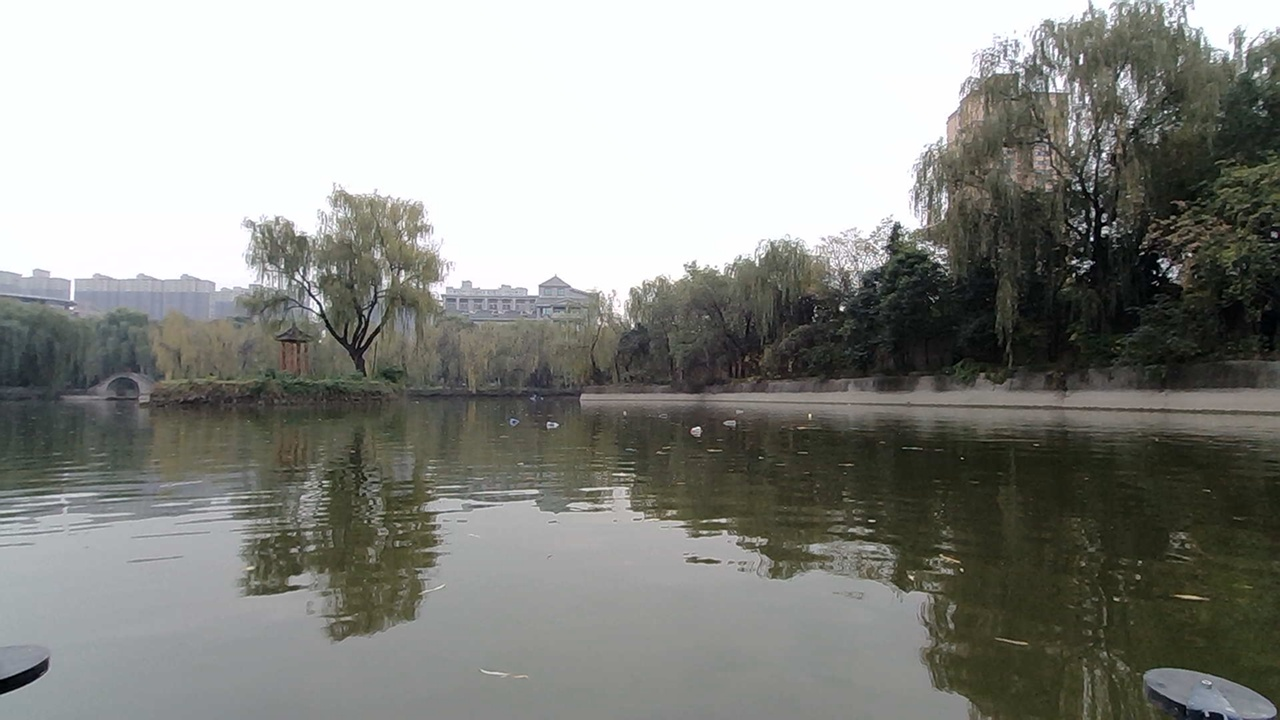bottle: (502, 400, 531, 431), (798, 405, 828, 433), (656, 402, 686, 426), (543, 410, 567, 434), (608, 399, 630, 418), (686, 422, 709, 440), (720, 411, 744, 428)
